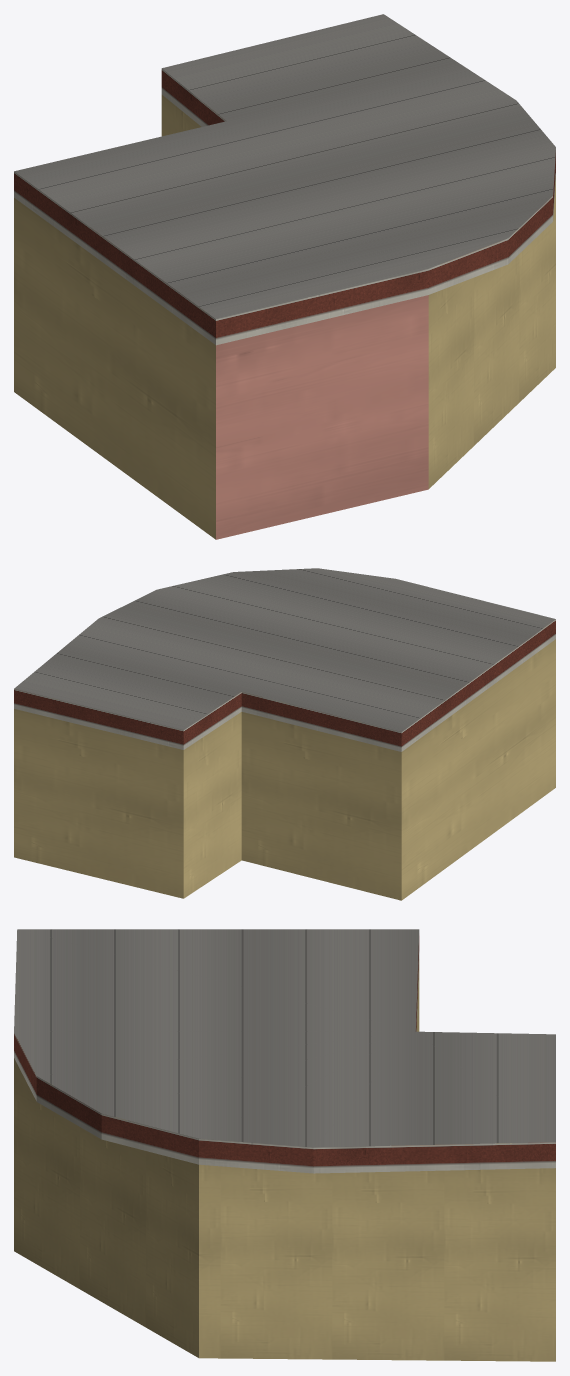
File: SM_Molo_Edificio_A1A2_LOD2.fbx
3 renders of one model, top to bottom at view 1: azimuth 30°, elevation 25°; view 2: azimuth 150°, elevation 25°; view 3: azimuth 270°, elevation 25°, orthographic. The views are drawn at different scales.
Parts seen in each view (by area): view 1: SM_Molo_Edificio_A1A2_LOD2; view 2: SM_Molo_Edificio_A1A2_LOD2; view 3: SM_Molo_Edificio_A1A2_LOD2.
Boxes of the visible parts, x1,y1,x2,y2 form: SM_Molo_Edificio_A1A2_LOD2: (14,14,555,539); SM_Molo_Edificio_A1A2_LOD2: (14,568,555,900); SM_Molo_Edificio_A1A2_LOD2: (14,929,555,1361).
Size of the model in its own units: 810 by 850 by 380.
1 material, 1 textured.
